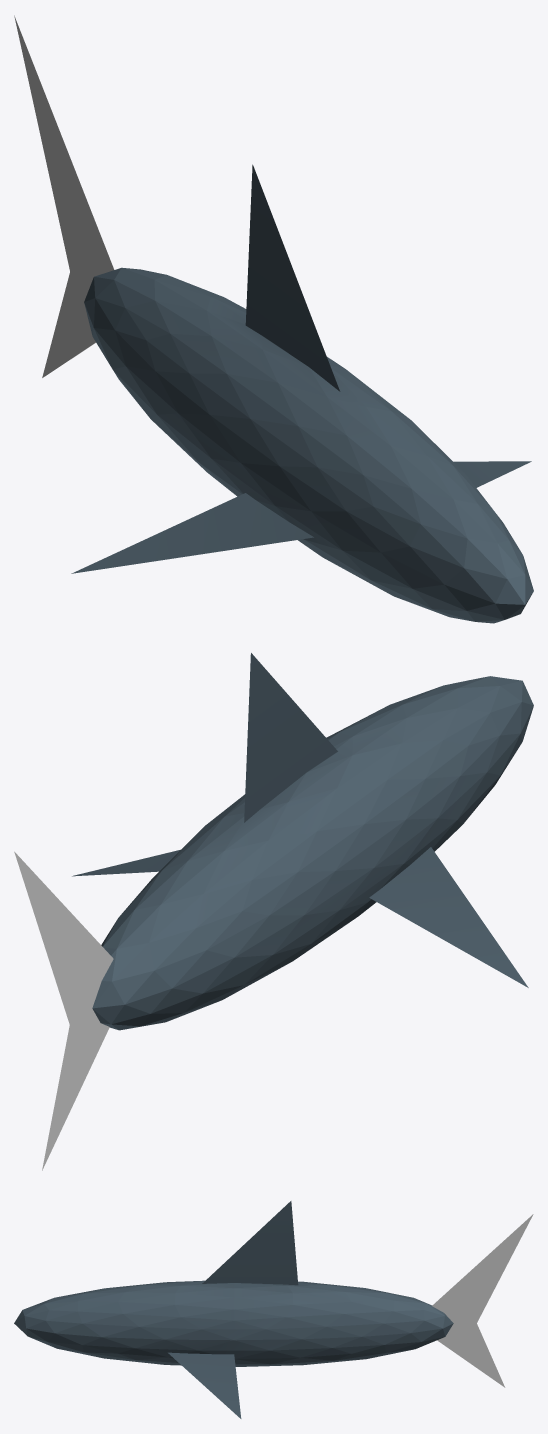
Rendered from Shark.fbx.
3 renders of one model, top to bottom at view 1: azimuth 30°, elevation 25°; view 2: azimuth 150°, elevation 25°; view 3: azimuth 270°, elevation 25°, orthographic. The views are drawn at different scales.
Visible parts, largest first — view 1: Shark, Tail.001; view 2: Shark, Tail.001; view 3: Shark, Tail.001.
Boxes of the visible parts, bbox=[...] form: Shark: bbox=[71, 164, 533, 623]; Tail.001: bbox=[14, 15, 114, 377]; Shark: bbox=[72, 653, 533, 1030]; Tail.001: bbox=[14, 851, 113, 1170]; Shark: bbox=[14, 1201, 453, 1418]; Tail.001: bbox=[432, 1214, 533, 1387].
Bounding box in the file's own units: 1.9 × 1.45 × 3.64.
